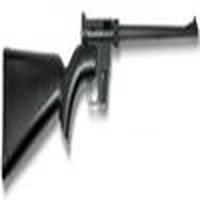gun: (1, 16, 200, 168)
